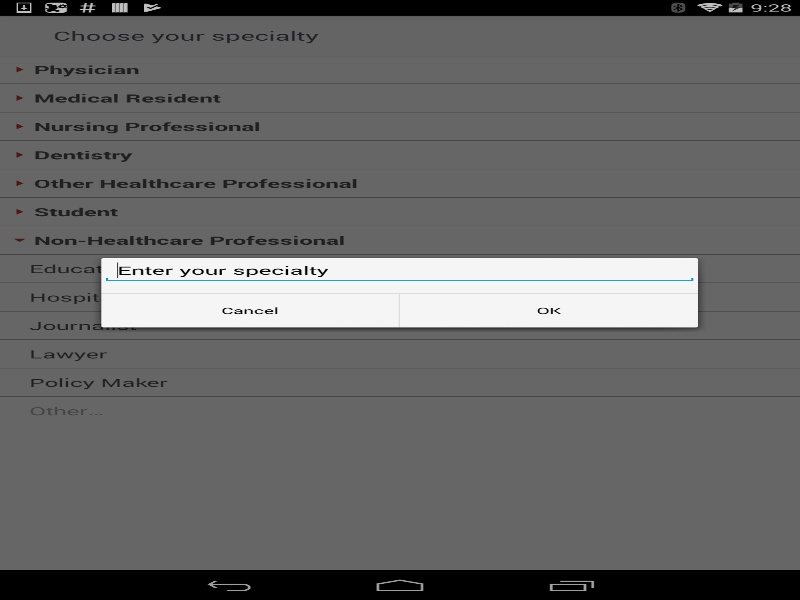Button: (400, 293, 698, 327), (101, 293, 398, 327)
Input: (101, 258, 698, 282)
